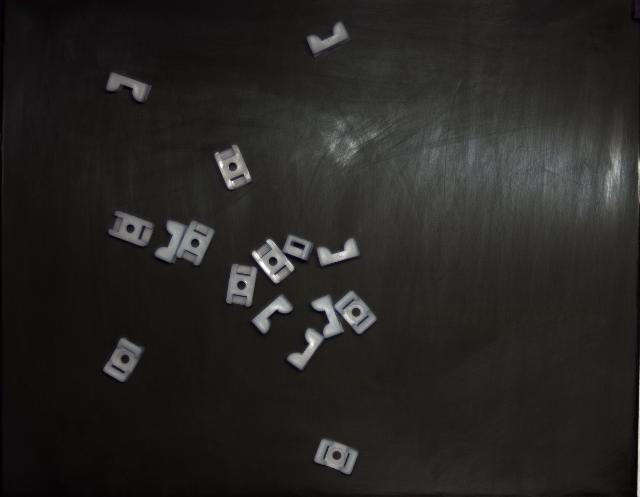first_side: (334, 291, 376, 335), (104, 338, 144, 382), (314, 439, 359, 475)
fourth_side: (282, 235, 314, 261)
second_side: (251, 239, 294, 284), (215, 145, 251, 190), (109, 211, 154, 246), (226, 264, 258, 308)
third_side: (251, 295, 292, 335), (306, 21, 350, 56), (288, 329, 324, 371), (311, 295, 344, 339), (155, 220, 186, 264), (106, 72, 151, 102), (316, 238, 360, 266)
